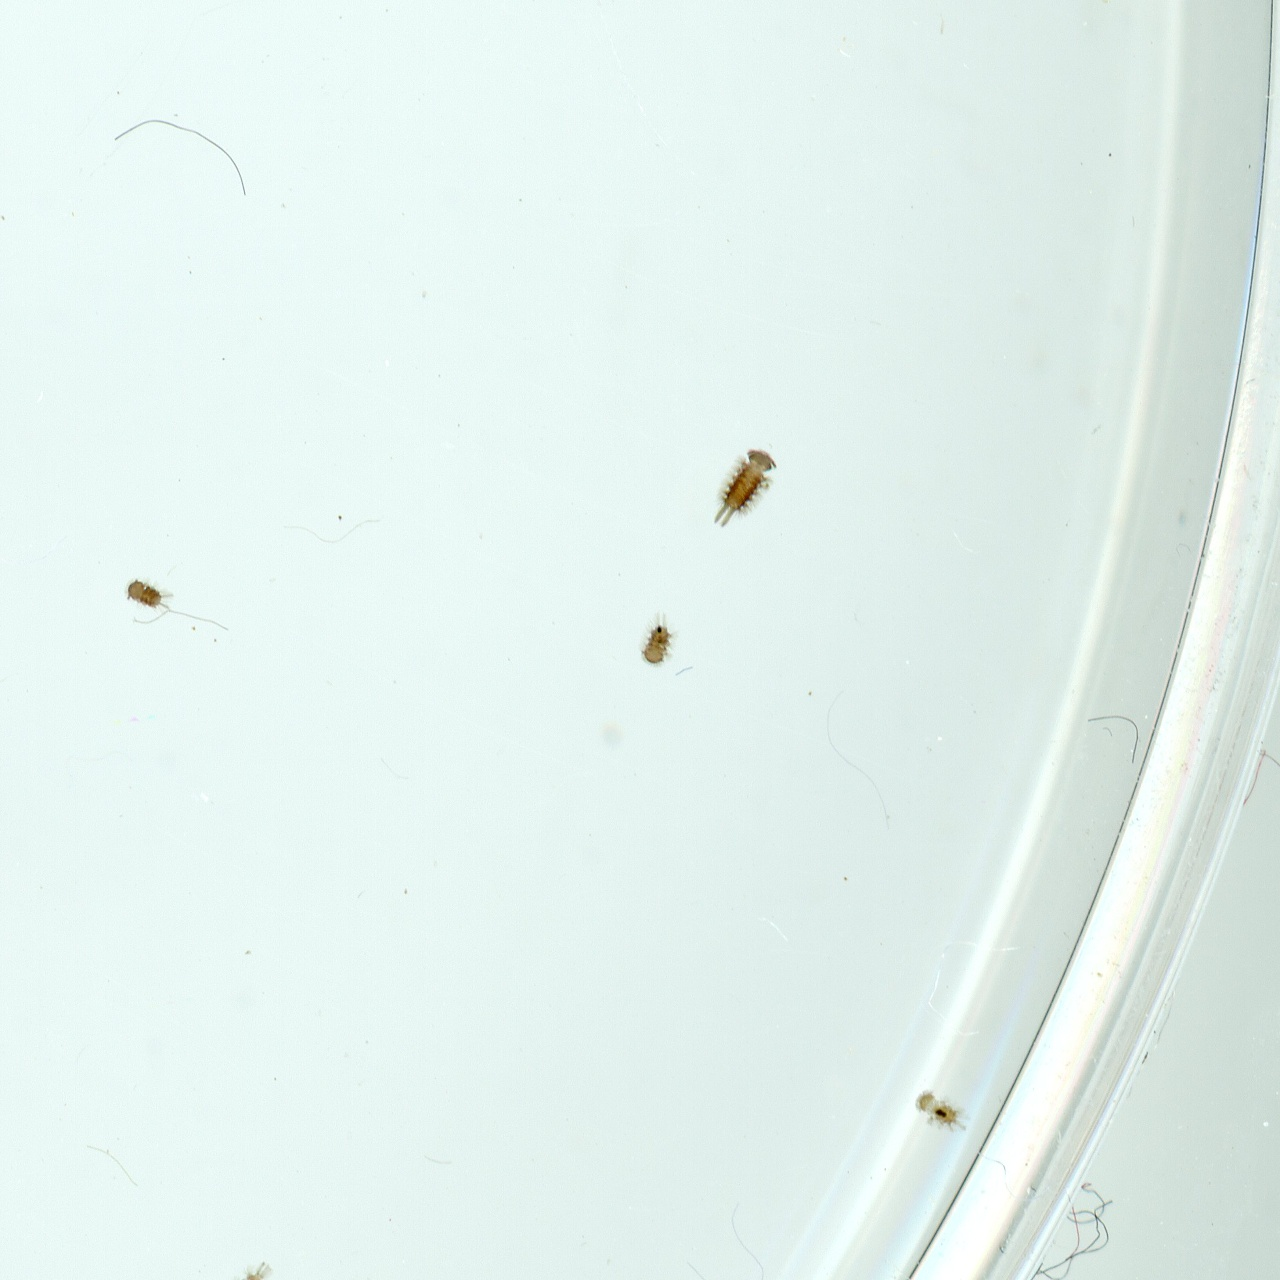arthropod: (710, 443, 777, 530), (914, 1087, 965, 1137), (640, 607, 674, 668), (121, 573, 175, 610), (230, 1261, 273, 1280)
